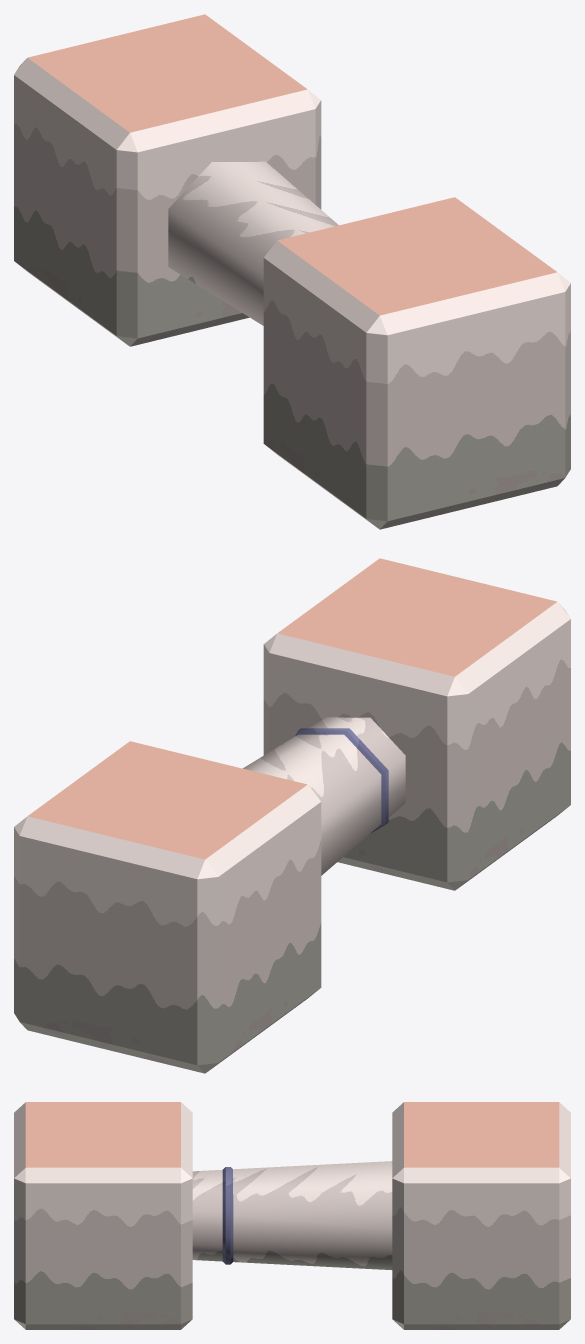
The model's file is R4C_STRUT_STANDARD_LOD1.glb.
3 renders of one model, top to bottom at view 1: azimuth 30°, elevation 25°; view 2: azimuth 150°, elevation 25°; view 3: azimuth 270°, elevation 25°, orthographic. The views are drawn at different scales.
Visible parts, largest first — view 1: R4C_STRUT_STANDARD_LOD1; view 2: R4C_STRUT_STANDARD_LOD1; view 3: R4C_STRUT_STANDARD_LOD1.
Part boxes in pixels (x1=…): R4C_STRUT_STANDARD_LOD1: x1=14, y1=14, x2=570, y2=529; R4C_STRUT_STANDARD_LOD1: x1=14, y1=558, x2=570, y2=1073; R4C_STRUT_STANDARD_LOD1: x1=14, y1=1102, x2=570, y2=1329.
Size of the model in its own units: 0.52 by 0.52 by 1.62.
Materials: 3 (3 with a texture image).
